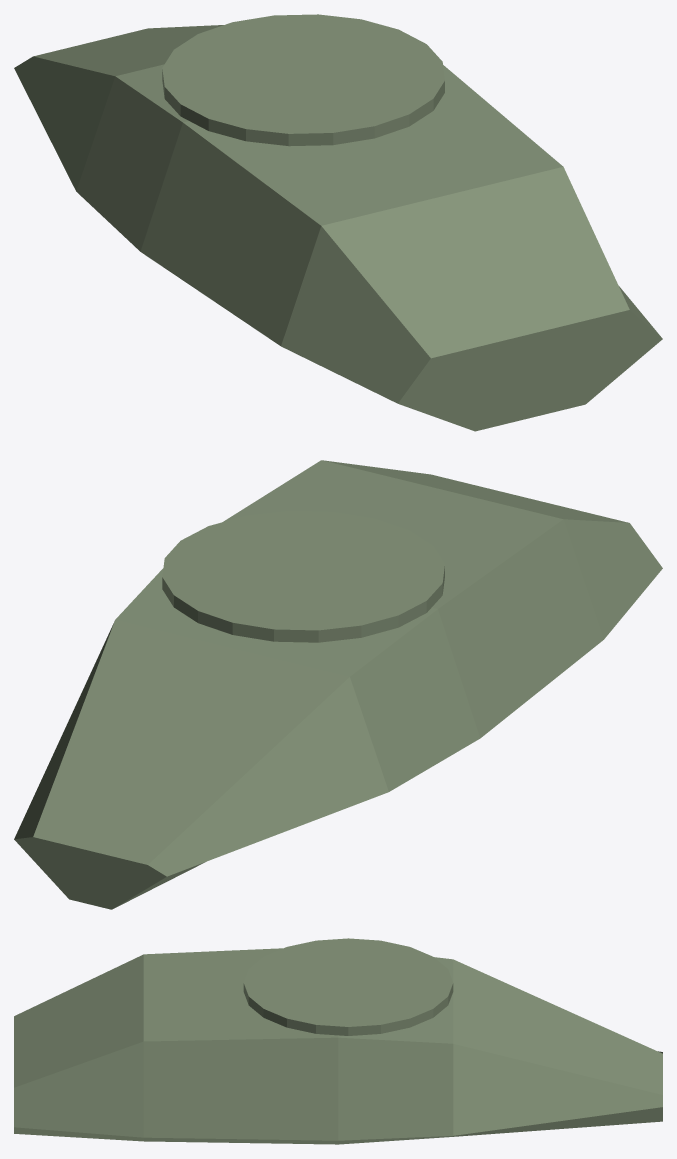
The model's file is hull_03_medium_tank.glb.
3 renders of one model, top to bottom at view 1: azimuth 30°, elevation 25°; view 2: azimuth 150°, elevation 25°; view 3: azimuth 270°, elevation 25°, orthographic. The views are drawn at different scales.
Visible parts, largest first — view 1: Hull_03_MediumTank; view 2: Hull_03_MediumTank; view 3: Hull_03_MediumTank.
Part boxes in pixels (box(x1,y1,x2,y2)): Hull_03_MediumTank: box(14, 14, 662, 431); Hull_03_MediumTank: box(14, 460, 662, 909); Hull_03_MediumTank: box(14, 938, 662, 1144).
Bounding box in the file's own units: 2.9 × 1.45 × 6.5.
